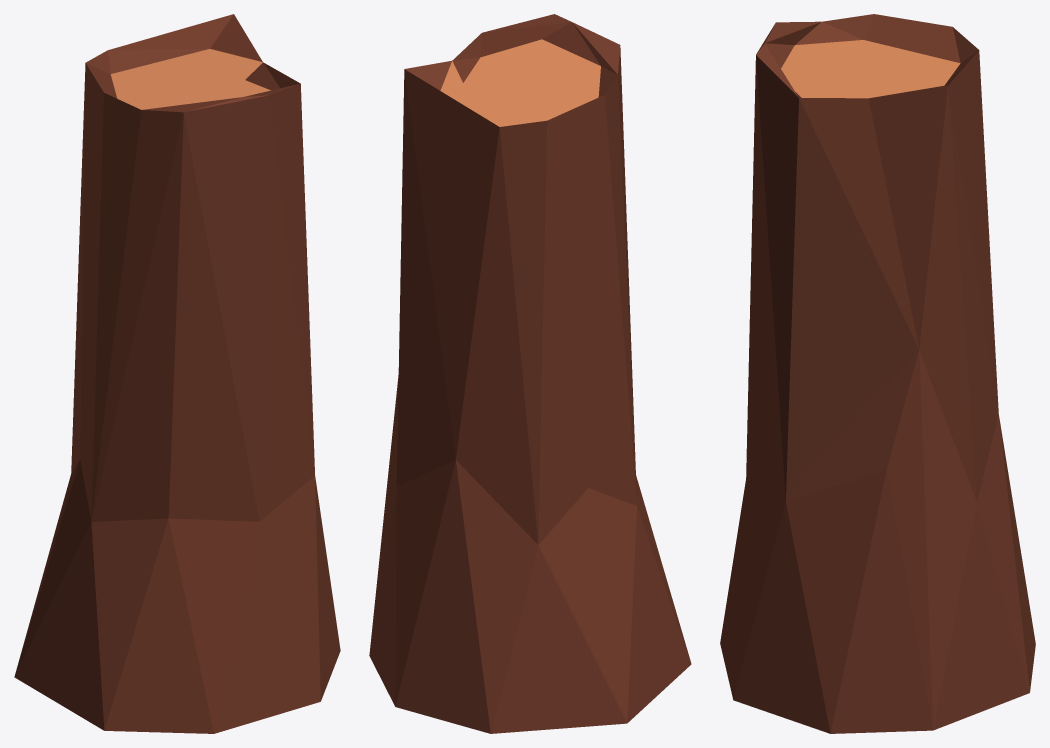
File: pine_trunk_type_7_LOD2.fbx
3 renders of one model, left to right at view 1: azimuth 30°, elevation 25°; view 2: azimuth 150°, elevation 25°; view 3: azimuth 270°, elevation 25°, orthographic. The views are drawn at different scales.
Parts seen in each view (by area): view 1: pt_type_7; view 2: pt_type_7; view 3: pt_type_7.
Boxes of the visible parts, left/top/right/bottom form: pt_type_7: left=14, top=14, right=340, bottom=733; pt_type_7: left=369, top=14, right=691, bottom=733; pt_type_7: left=720, top=14, right=1035, bottom=733.
Bounding box in the file's own units: 197 × 422 × 193.
